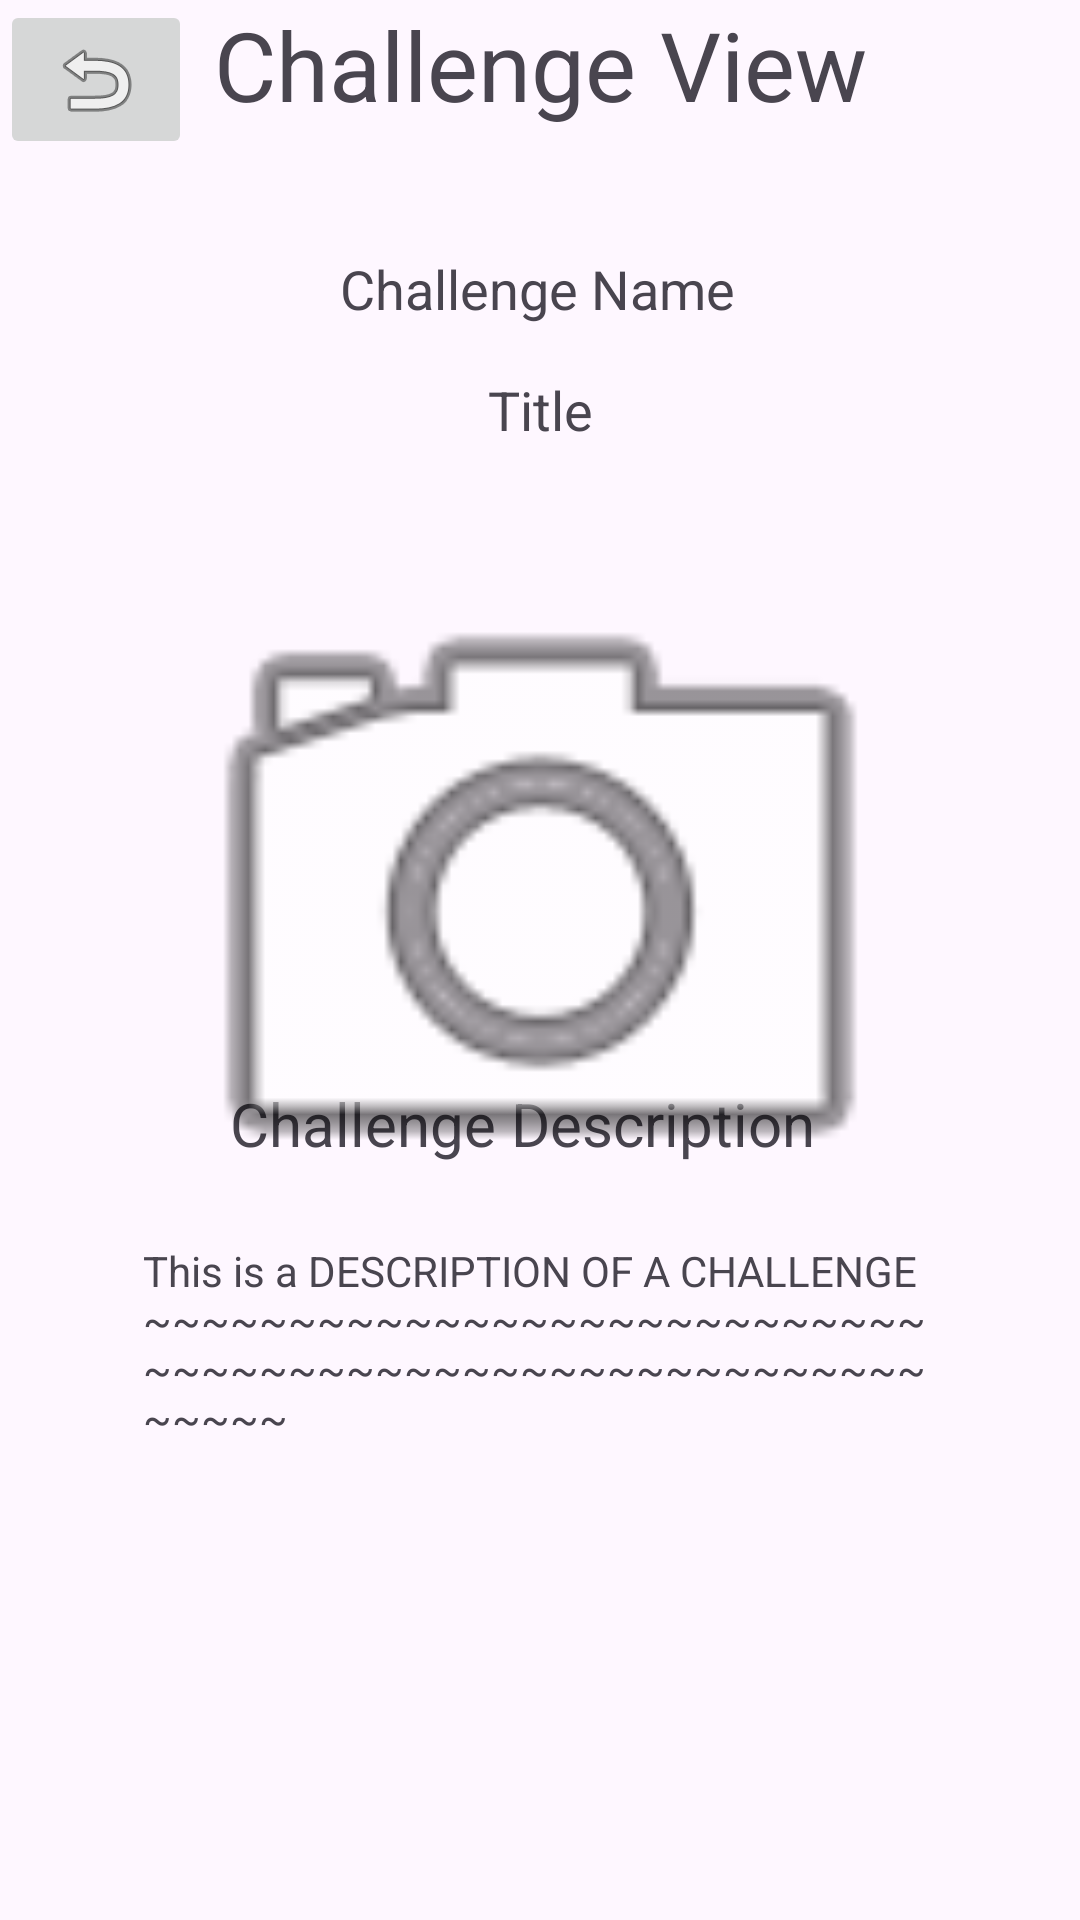

Screen size 1080*1920. Icon name, then its center in pixels as (x,y):
revert: (96,79)
